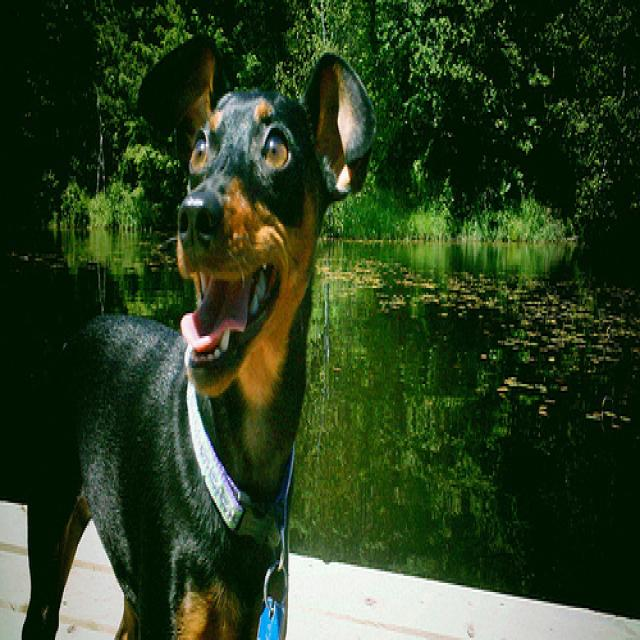dog-miniature_pinscher: (13, 21, 380, 635)
